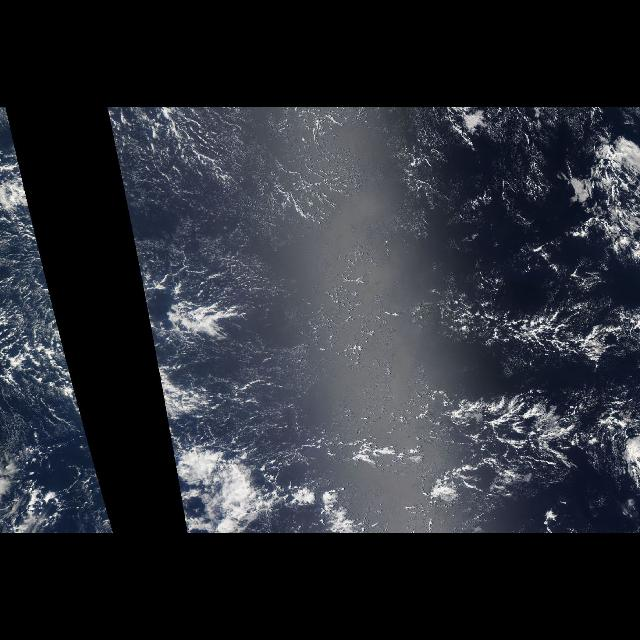Fish: (406, 386, 612, 530), (421, 277, 639, 368)
Sugar: (125, 110, 573, 296), (250, 302, 432, 480)
